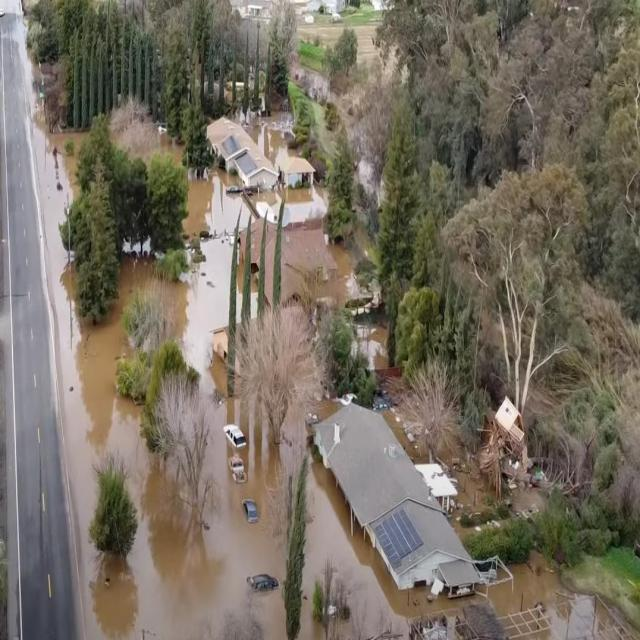flood: (31, 113, 341, 640), (300, 454, 462, 640), (500, 592, 636, 640), (490, 561, 562, 616), (13, 15, 34, 112), (286, 188, 325, 220), (256, 190, 280, 222)
house: (310, 400, 477, 594), (239, 214, 337, 310), (204, 116, 272, 186), (208, 320, 252, 379), (278, 152, 318, 195)
